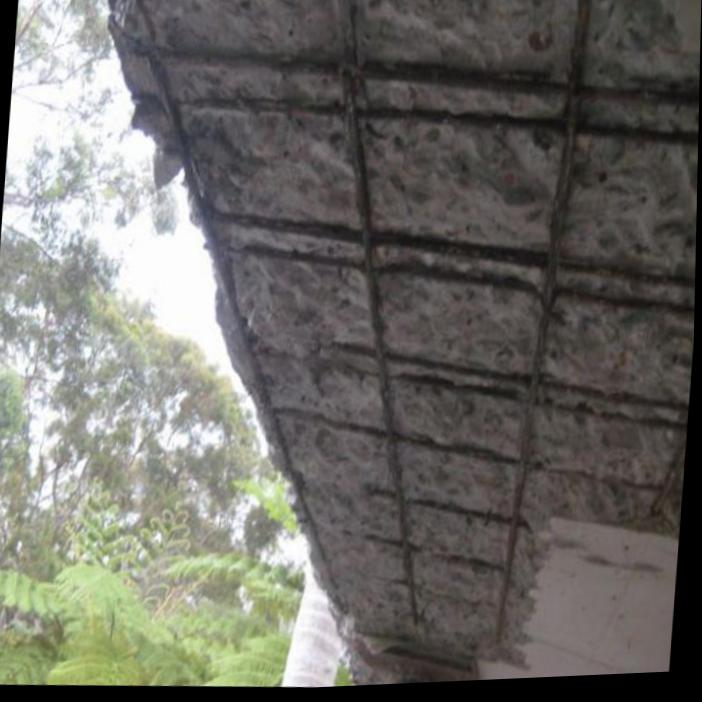crack: (576, 559, 666, 581)
damage: (106, 0, 701, 689)
